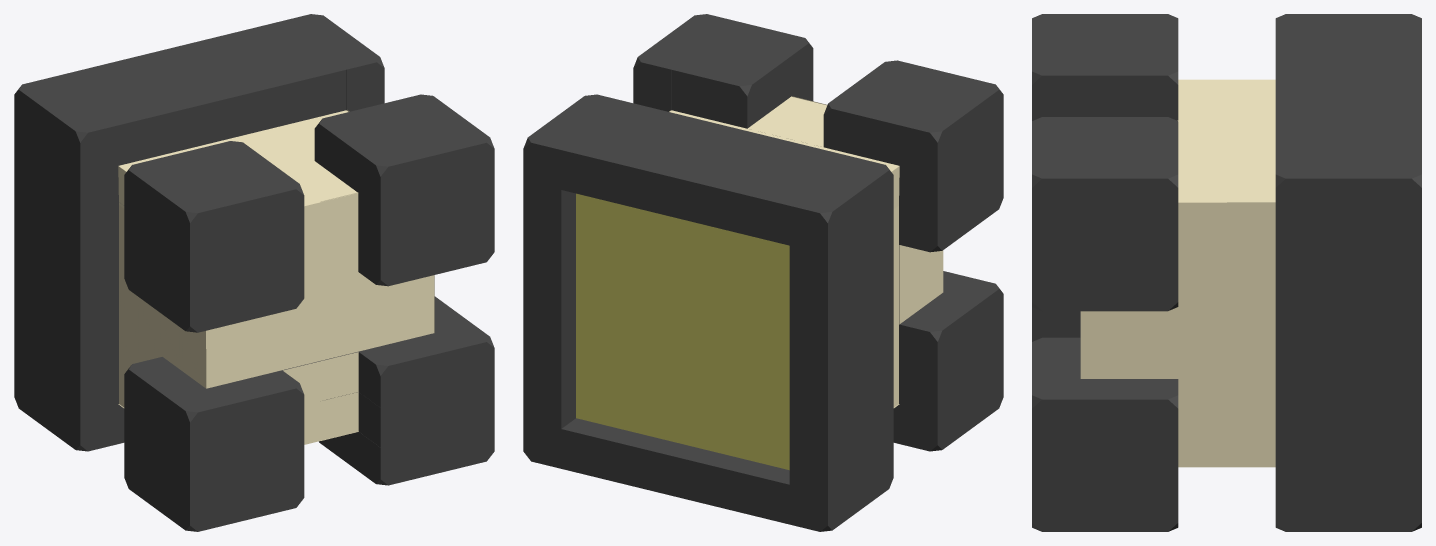
Rendered from lazerTable.fbx.
3 views of the same model, side by side, from view 1: azimuth 30°, elevation 25°; view 2: azimuth 150°, elevation 25°; view 3: azimuth 270°, elevation 25° (orthographic). The views are drawn at different scales.
Parts seen in each view (by area): view 1: 큐브; view 2: 큐브; view 3: 큐브.
Boxes of the visible parts, left/top/right/bottom form: 큐브: left=14, top=14, right=494, bottom=531; 큐브: left=523, top=14, right=1003, bottom=531; 큐브: left=1032, top=14, right=1421, bottom=531.
Bounding box in the file's own units: 143 × 143 × 143.
